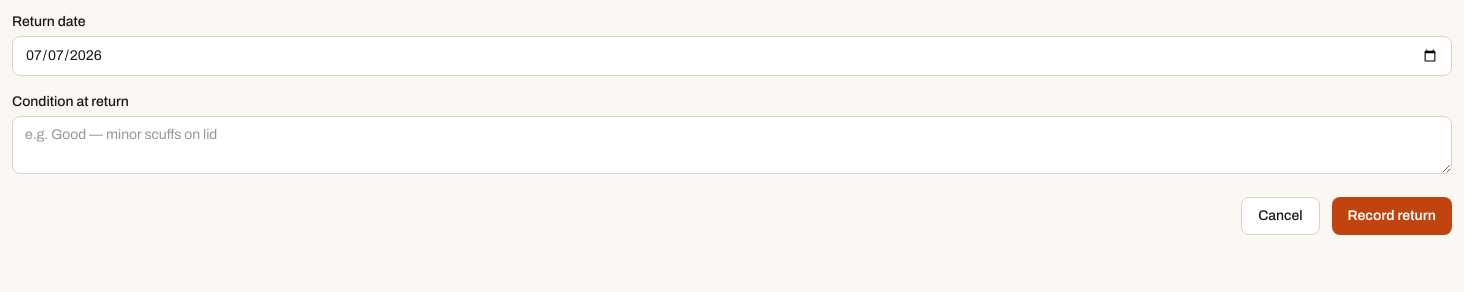
it: ReturnForm › requires a return condition
Click the button "Record return". click: (1392, 216)
box: [1332, 197, 1452, 235]
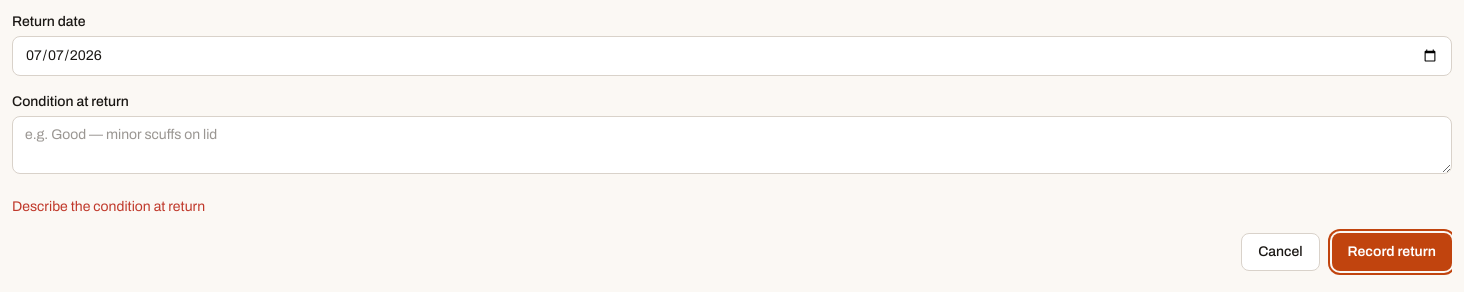
Expected: the message shows "condition", [12, 199, 205, 214]
